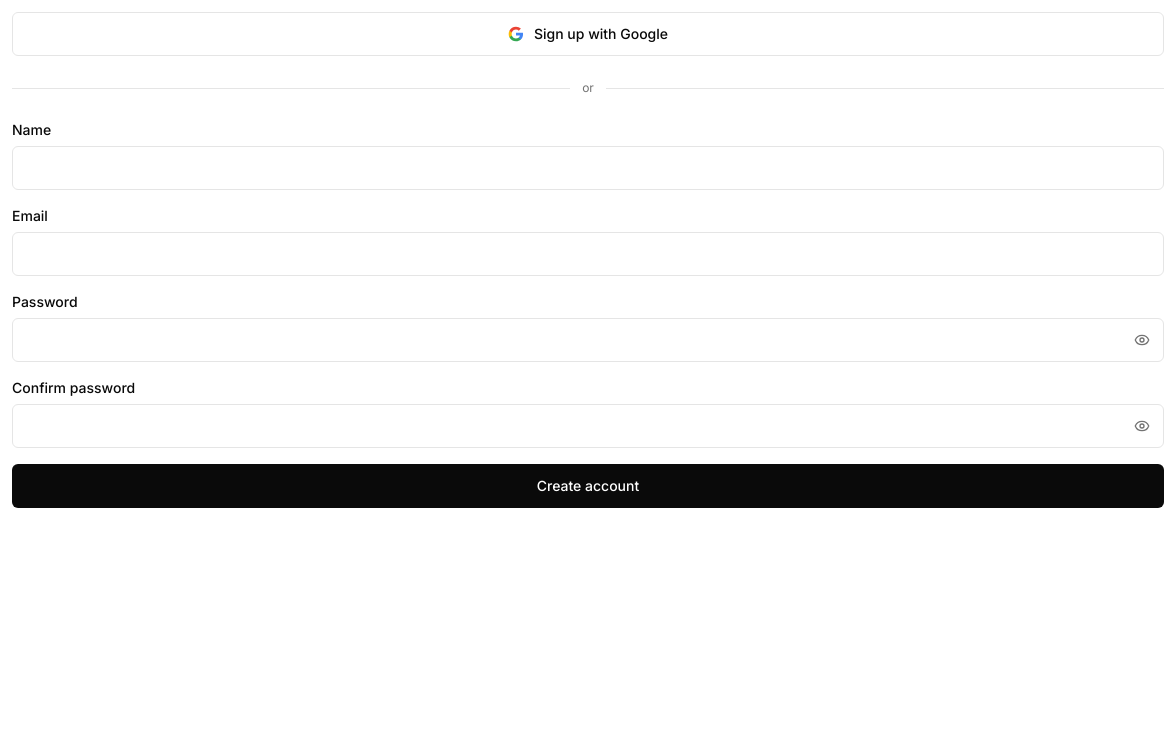
it: SignUp › rejects short passwords before contacting Firebase
Type "Ada Lovelace" into the field labelled "Name" at (588, 168), box [12,146,1164,190]
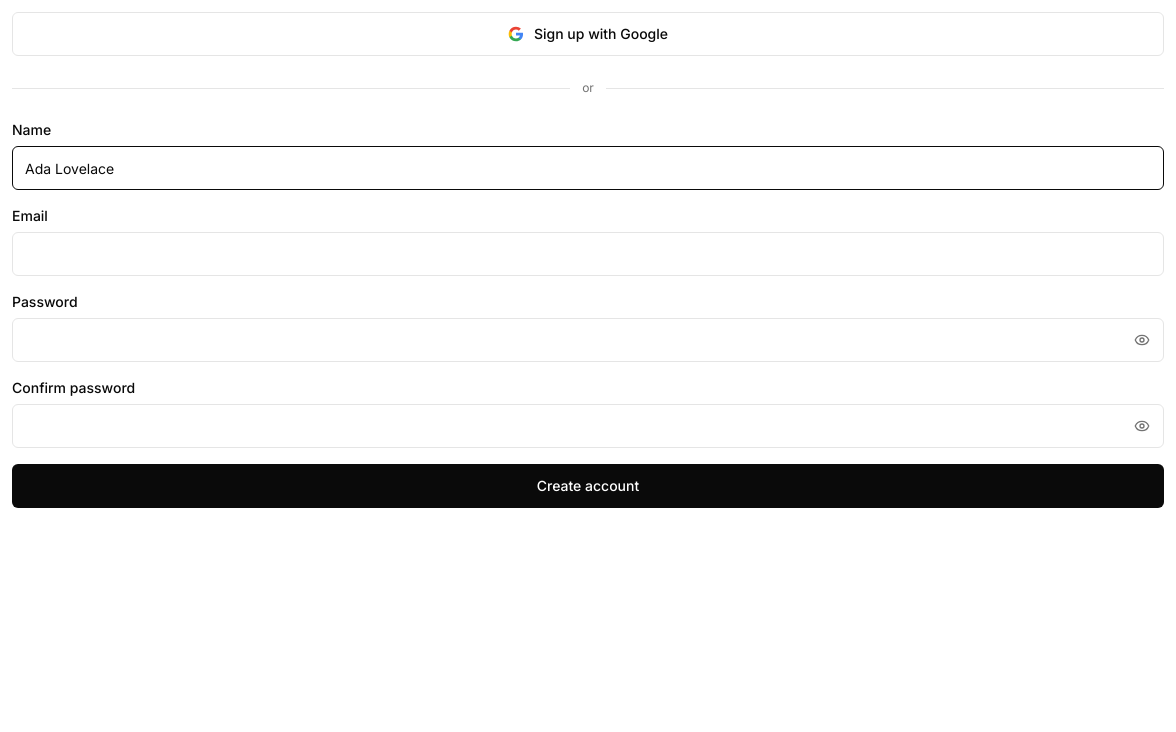
Type "ada@example.test" into the field labelled "Email" at (588, 254), box [12,232,1164,276]
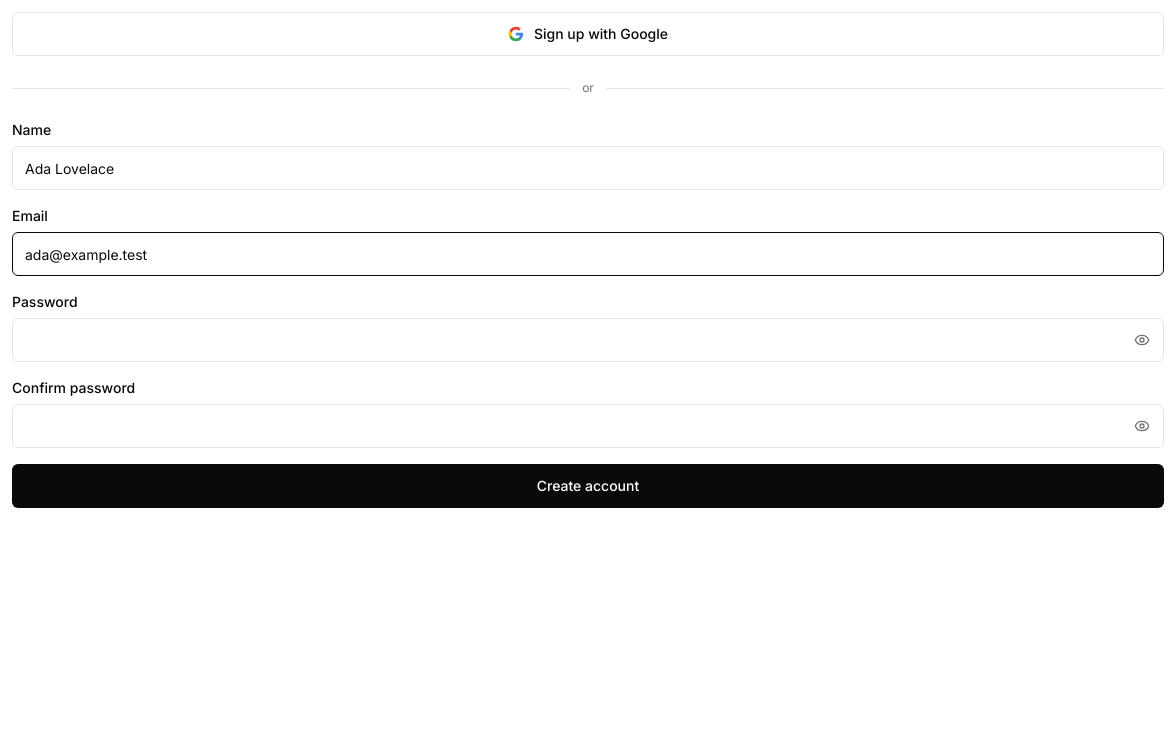
Type "abc" into the password field labelled "Password" at (588, 340), box [12,318,1164,362]
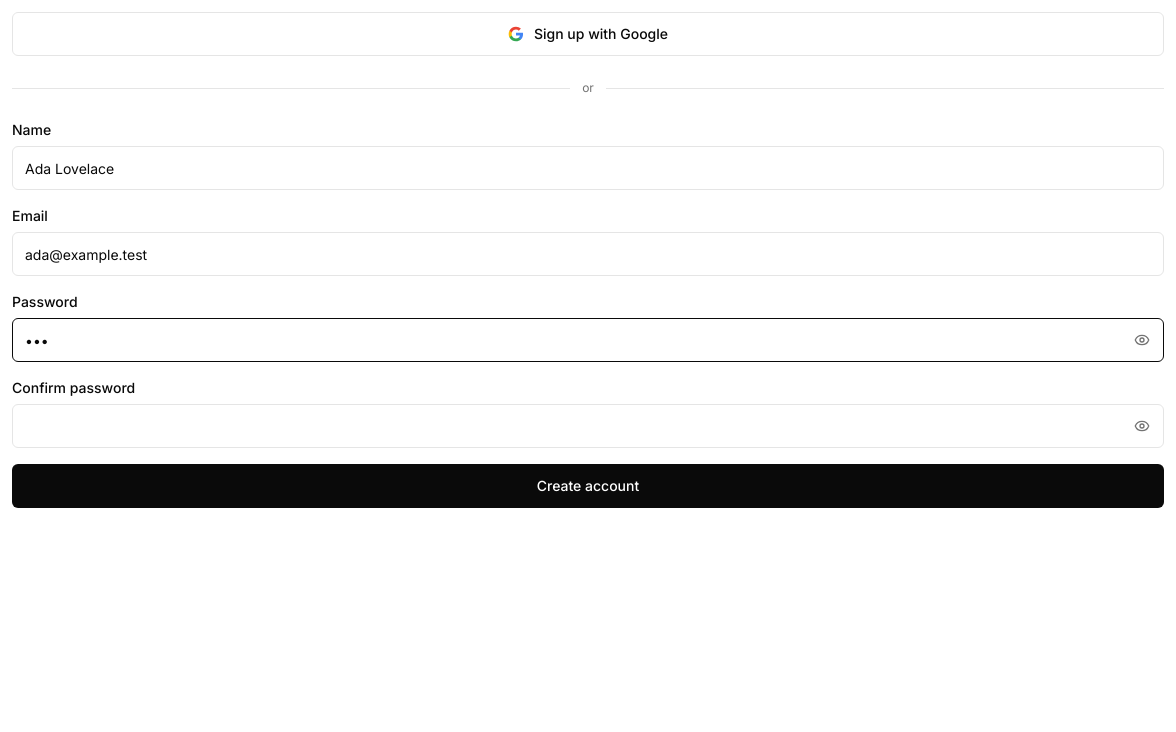
Type "abc" into the password field labelled "Confirm password" at (588, 426), box [12,404,1164,448]
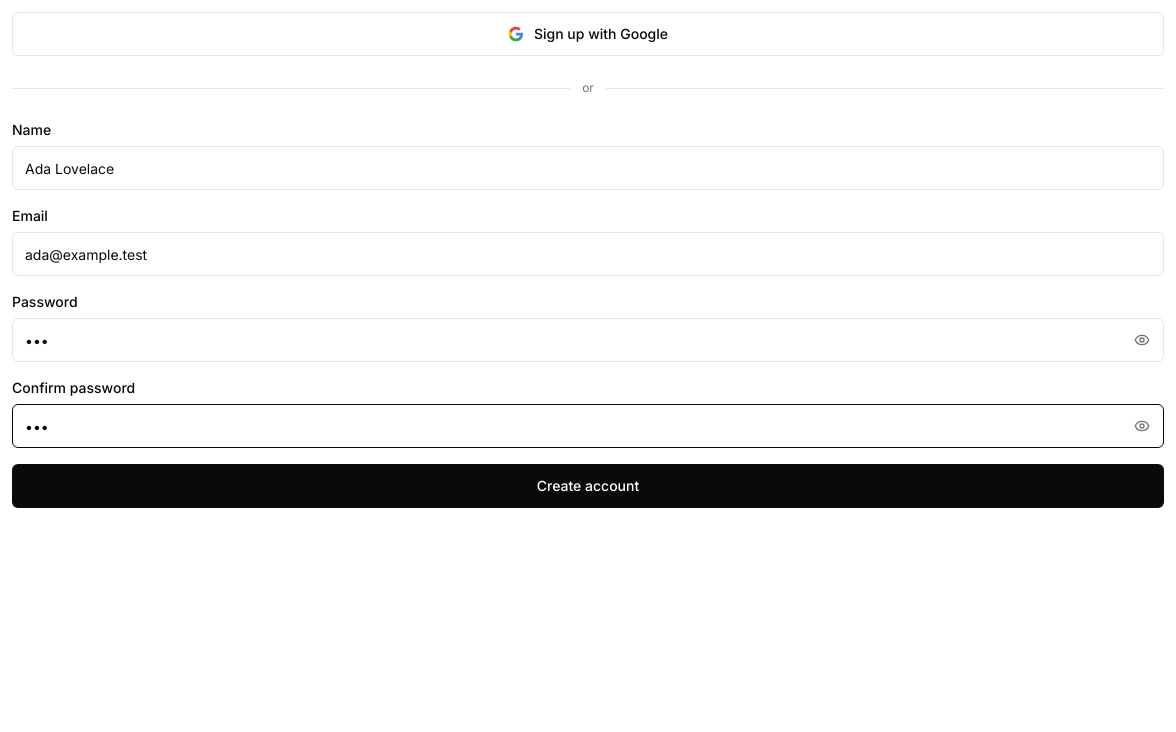
Click the button "Create account" at (588, 486), box [12,464,1164,508]
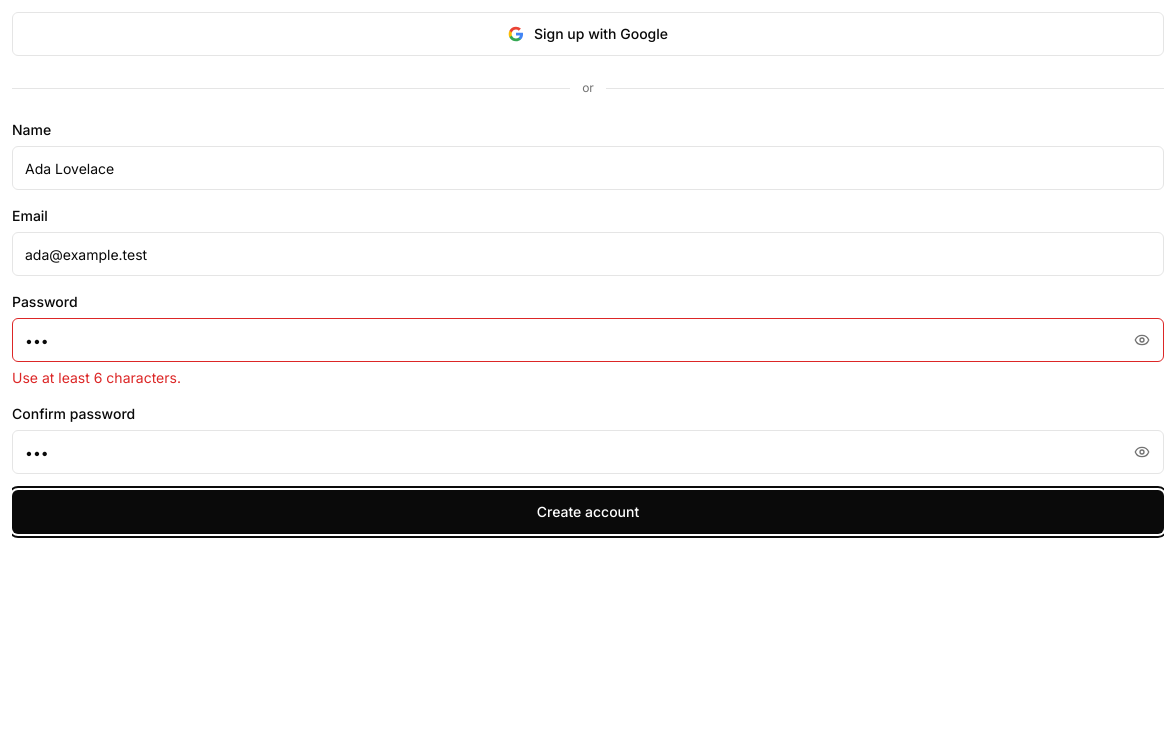
Result: the text "Use at least 6 characters." is shown at [12,369,181,386]
